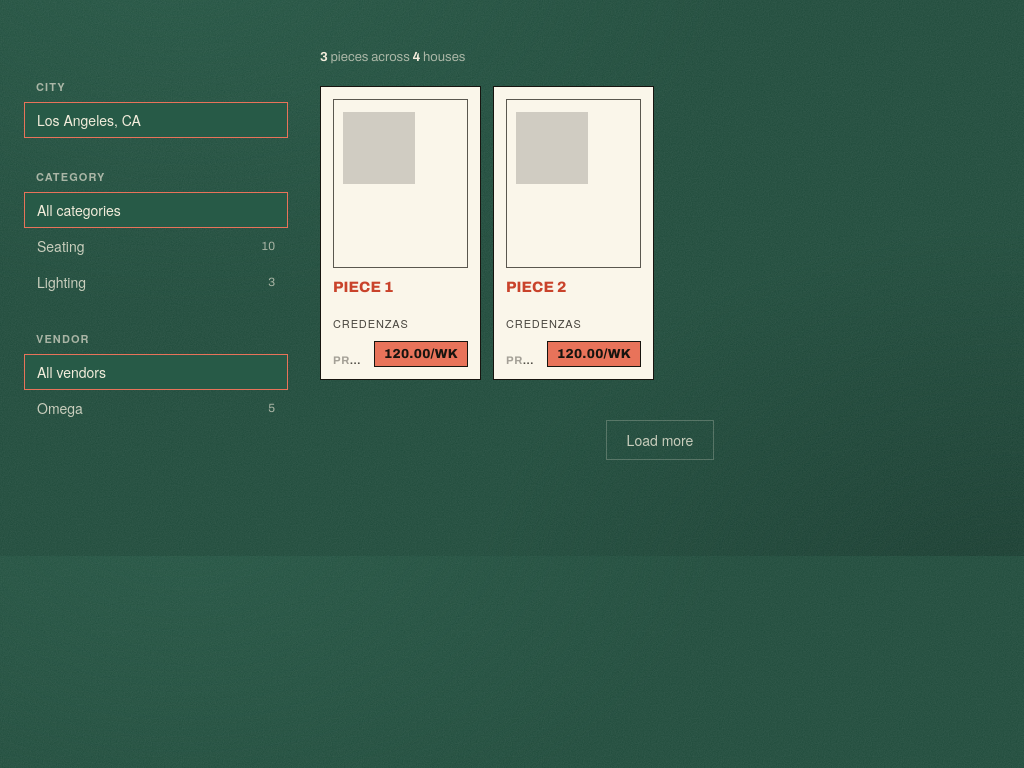
BrowseGrid › fetches a filtered page from offset 0 and names the filter in the count
Click the button "Load more": (660, 440) x1=606 y1=420 x2=714 y2=460
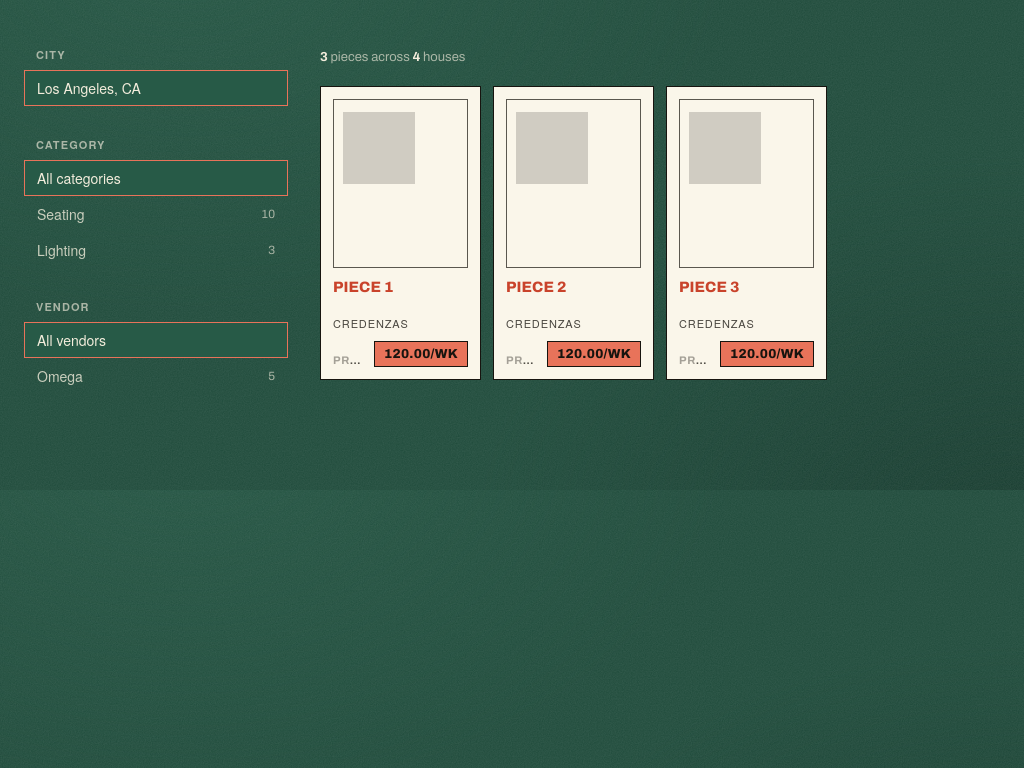
Expected: the link "Piece 3 credenzas Prop house withheld 120.00/WK" is shown, x1=666 y1=86 x2=827 y2=380
Click the button "Seating 10": (61, 214) x1=24 y1=196 x2=288 y2=232
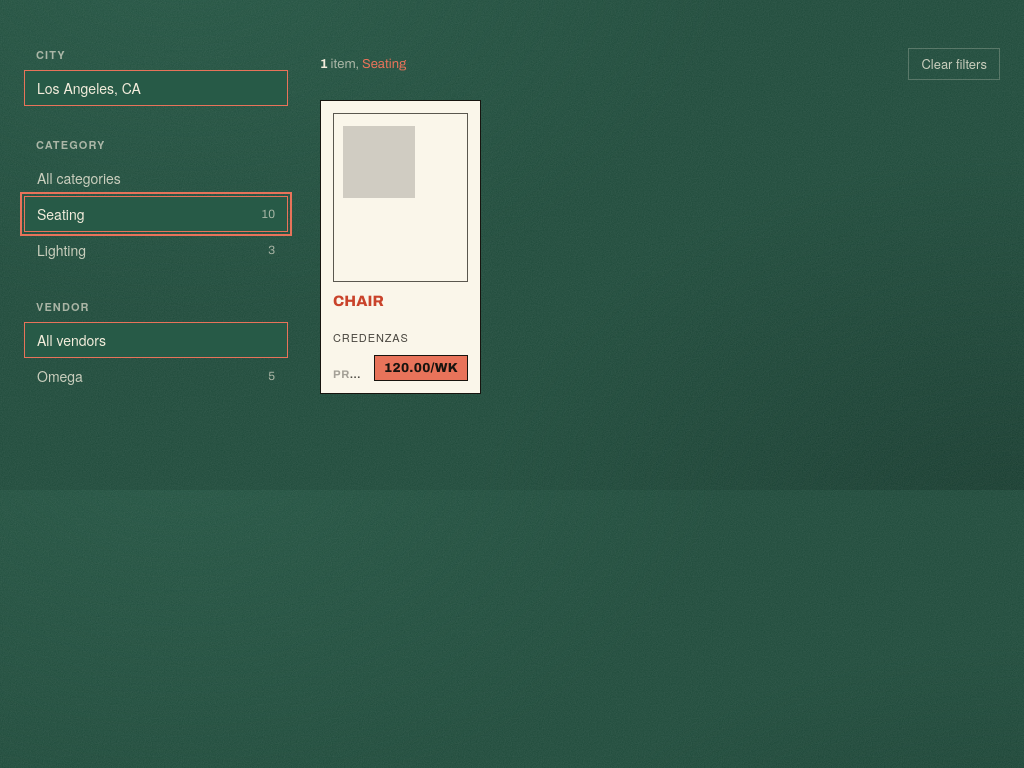
Expected: the button "Load more" is not shown
Expected: the number of links is 1, x1=320 y1=100 x2=481 y2=394
Expected: the element showing "1 item, Seating" is shown, x1=320 y1=55 x2=406 y2=73
